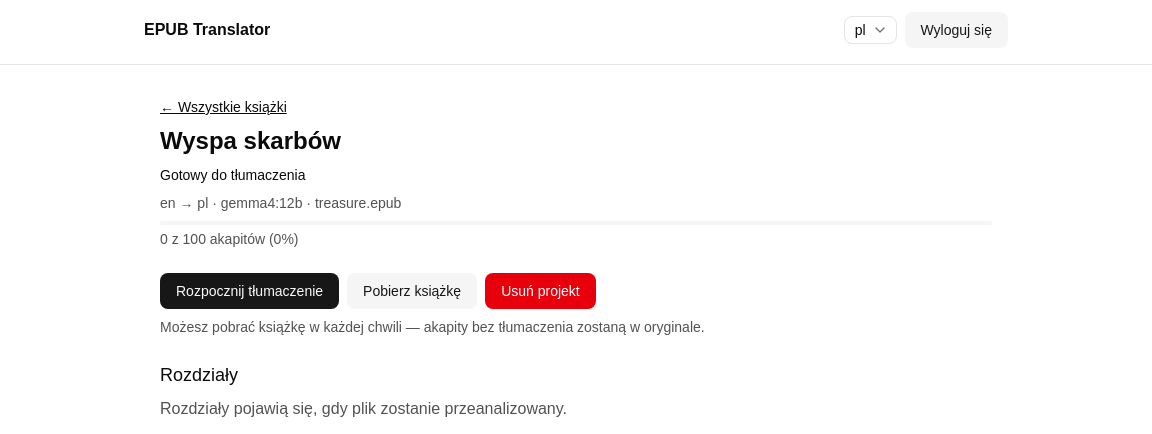
Scenario: ProjectDetailPage › starts the translation and picks up the new status
What coordinates should you click on to do the following:
click the button "Rozpocznij tłumaczenie"
I would click on:
 (250, 291)
Its box is [160,273,339,309].
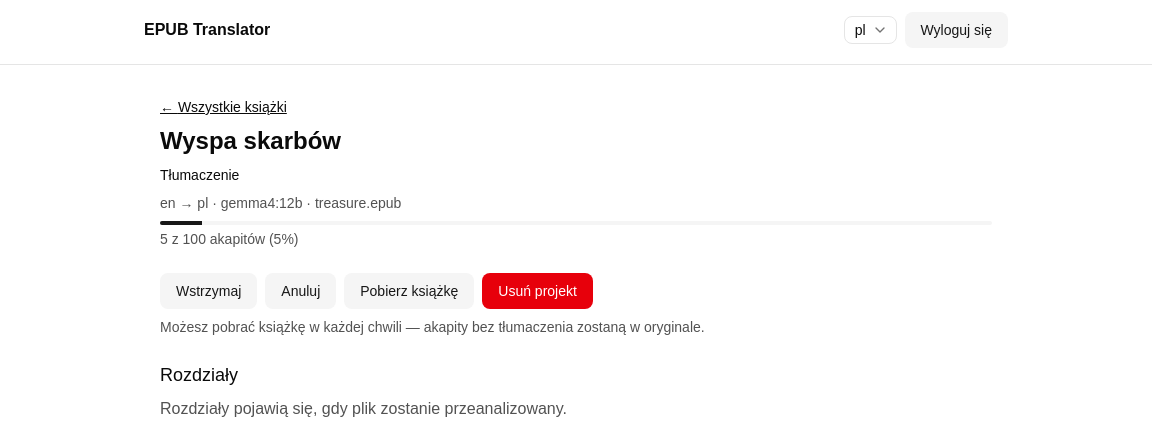
Expected: the text "Tłumaczenie" is shown, [160,167,239,183]
